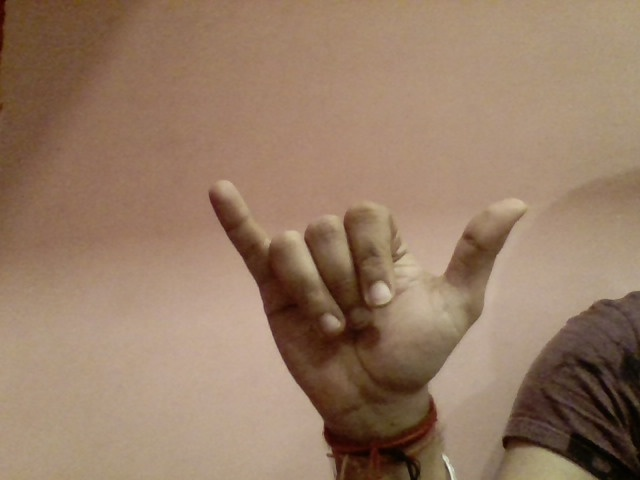y: (183, 159, 540, 417)
